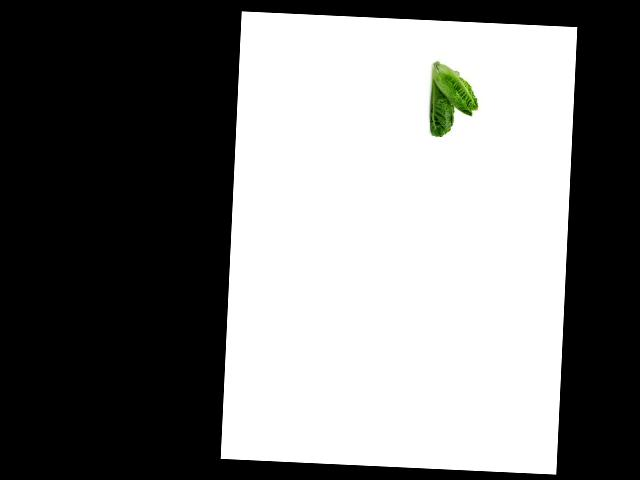lettuce: (424, 76, 457, 142)
